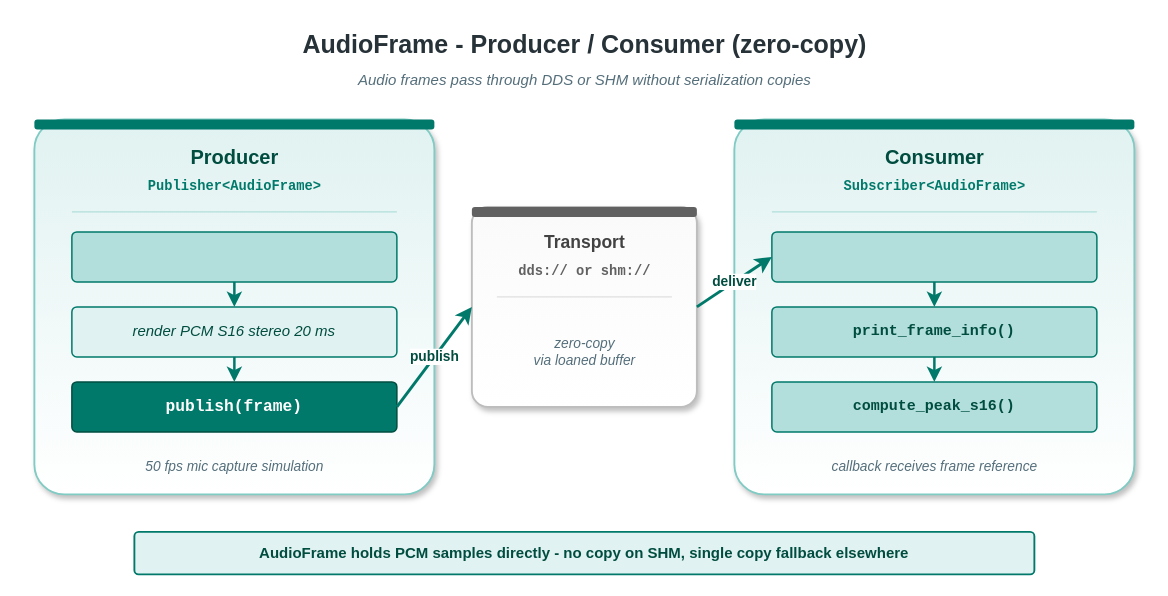
Image size: 1168x596. Some labels were removed from this diagram. Each missing label, with the centre of its shape:
"create_test_frame()" belongs at [233,256].
"validate_frame()" belongs at [933,256].
